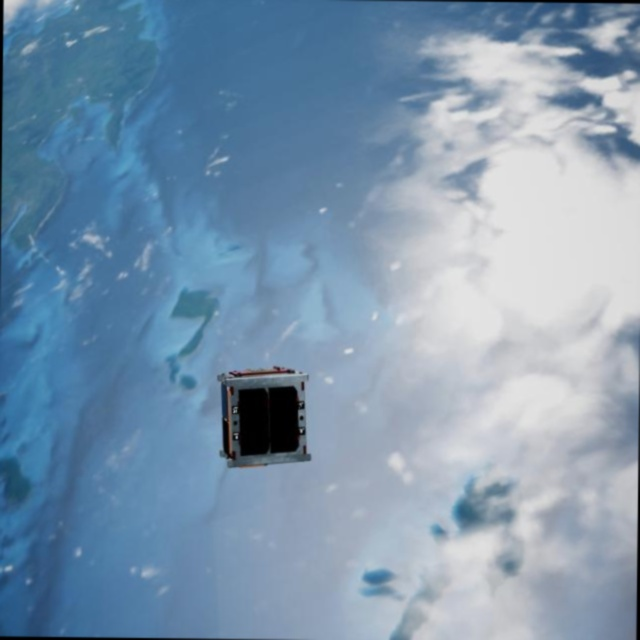satellite: (213, 361, 317, 471)
